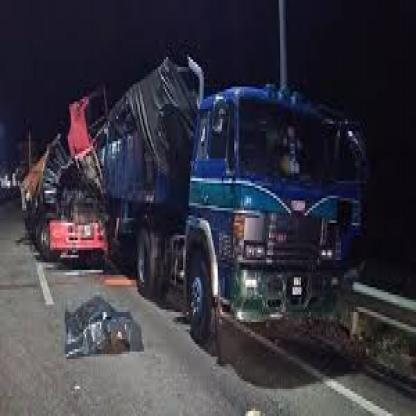accident: (17, 46, 371, 358)
